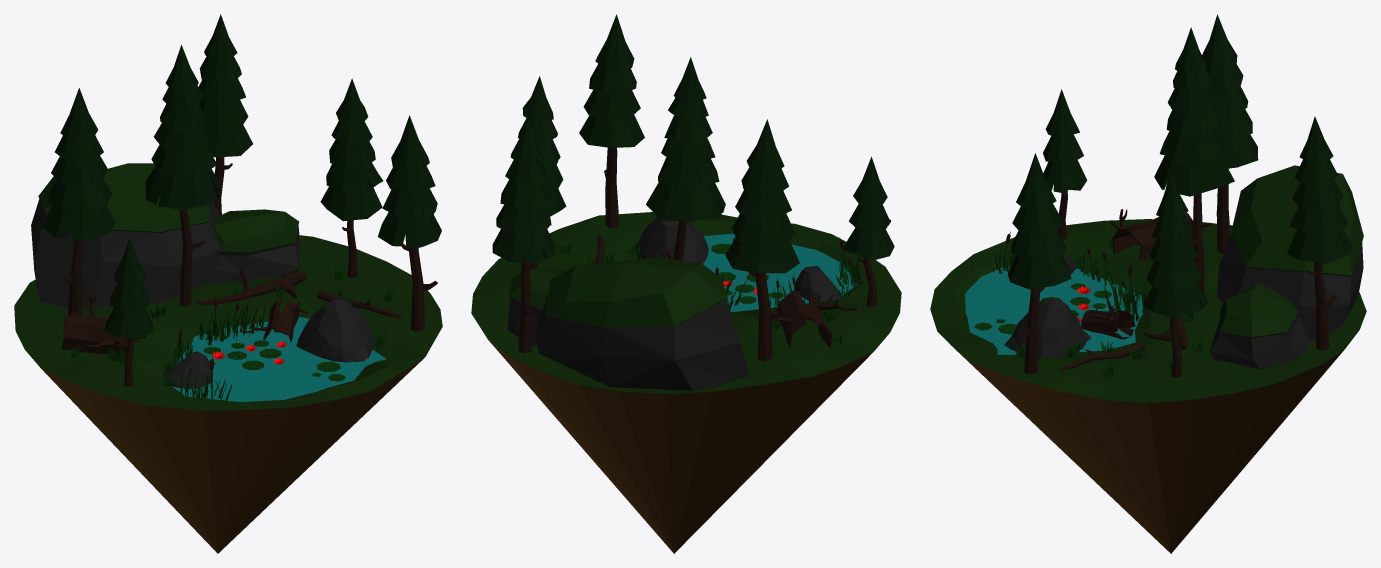
File: uploads_files_968058_3dLakeLowPoly.obj
3 renders of one model, left to right at view 1: azimuth 30°, elevation 25°; view 2: azimuth 150°, elevation 25°; view 3: azimuth 270°, elevation 25°, orthographic.
Visible parts, largest first — view 1: pPlane199; view 2: pPlane199; view 3: pPlane199.
Boxes of the visible parts, box(x1,y1,x2,y2) form: pPlane199: box(14, 14, 442, 553); pPlane199: box(471, 14, 901, 553); pPlane199: box(930, 14, 1366, 553).
Size of the model in its own units: 17.47 by 22.69 by 17.47.
